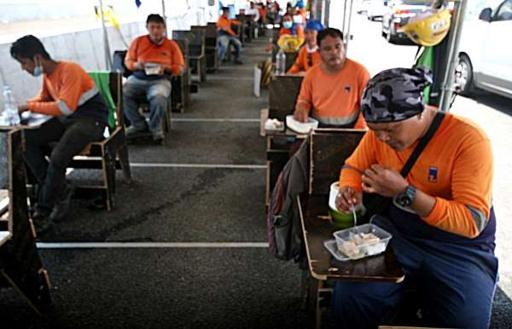unsafe person: (295, 25, 364, 123)
